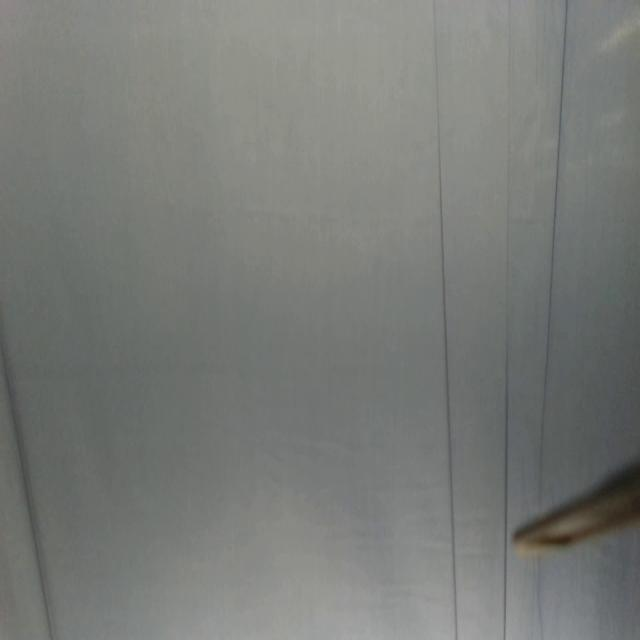crease: (1, 322, 54, 640), (433, 0, 458, 640), (537, 0, 568, 499), (500, 0, 514, 640), (535, 552, 545, 636)
